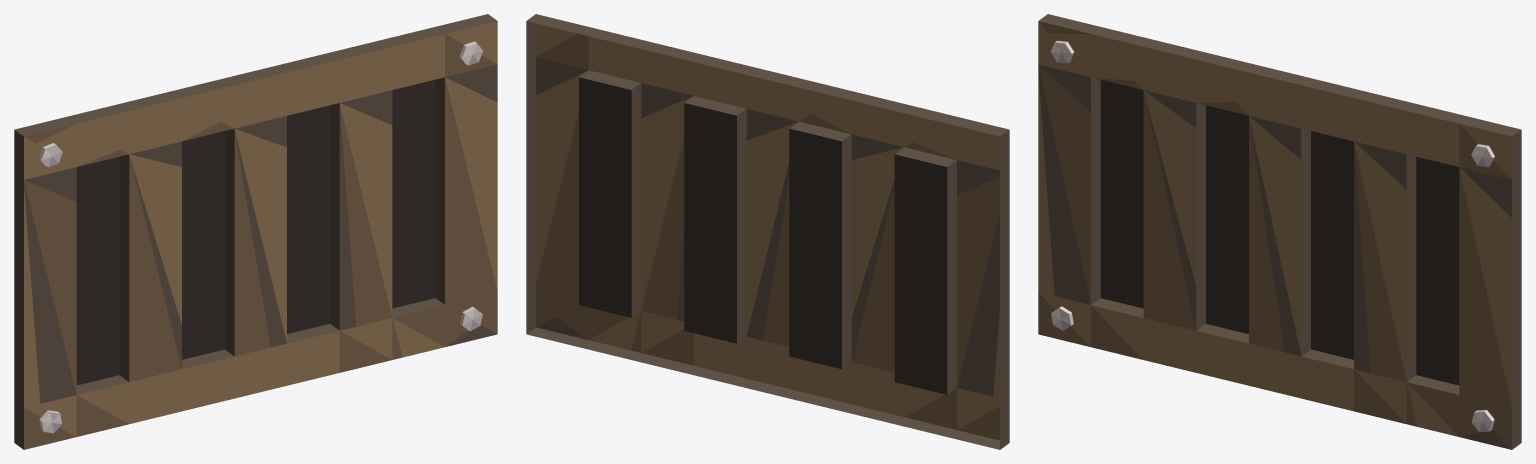
The model's file is grate.fbx.
3 views of the same model, side by side, from view 1: azimuth 30°, elevation 25°; view 2: azimuth 150°, elevation 25°; view 3: azimuth 330°, elevation 25° (orthographic).
Parts seen in each view (by area): view 1: grate; view 2: grate; view 3: grate.
Boxes of the visible parts, x1,y1,x2,y2 form: grate: (14, 14, 497, 449); grate: (526, 14, 1009, 449); grate: (1038, 14, 1521, 449).
Size of the model in its own units: 28.35 by 17.92 by 1.27.
